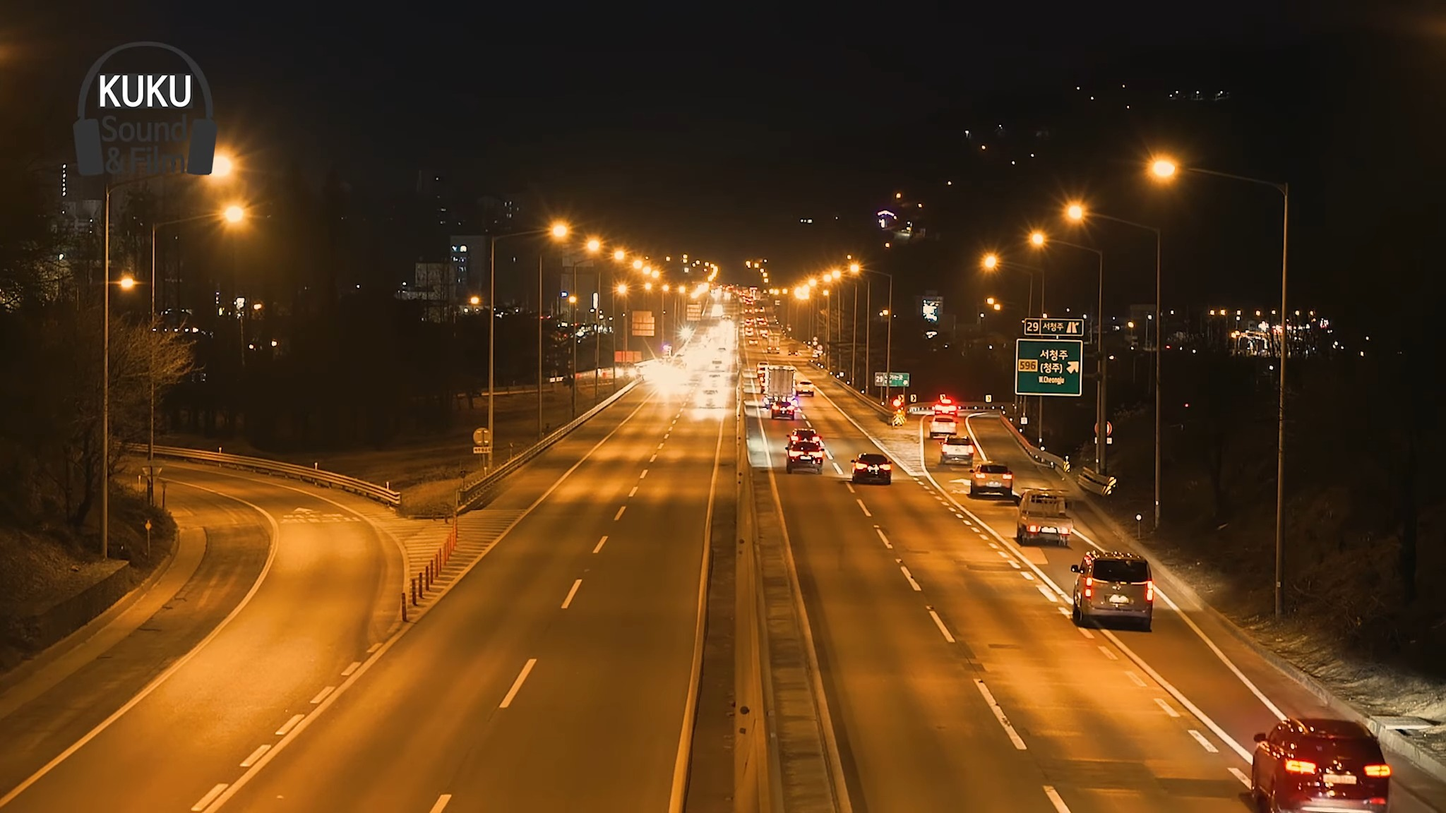car: (1254, 710, 1397, 813), (1072, 547, 1155, 635), (779, 433, 826, 470), (971, 459, 1011, 495), (848, 456, 893, 480)
truck: (1015, 486, 1078, 553)
